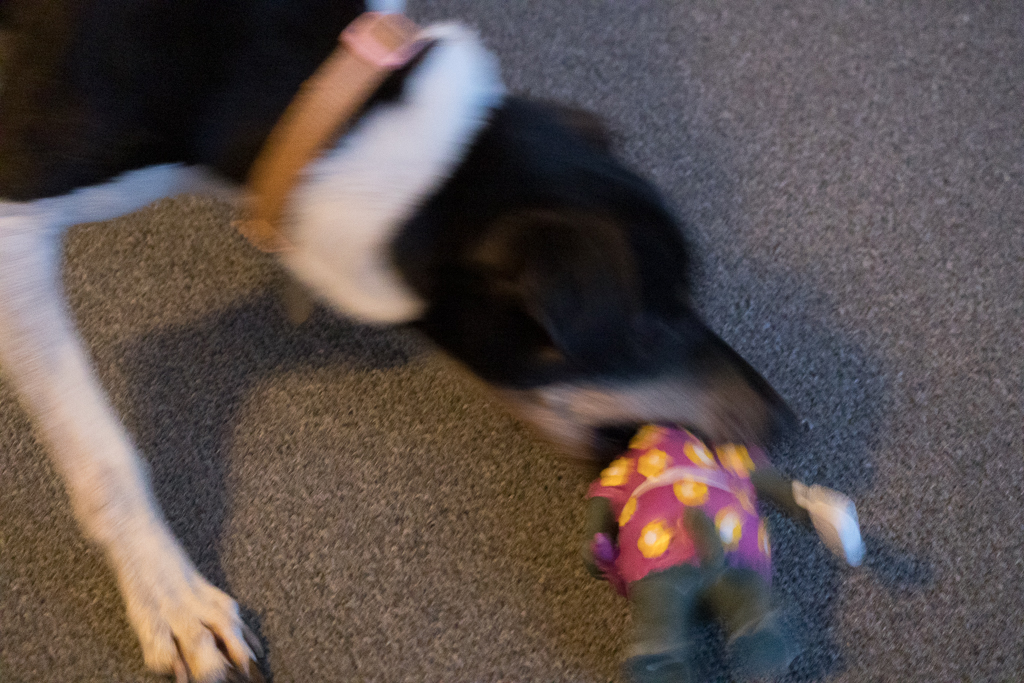Dog: (0, 0, 813, 683)
Humanoid: (569, 409, 878, 683)
